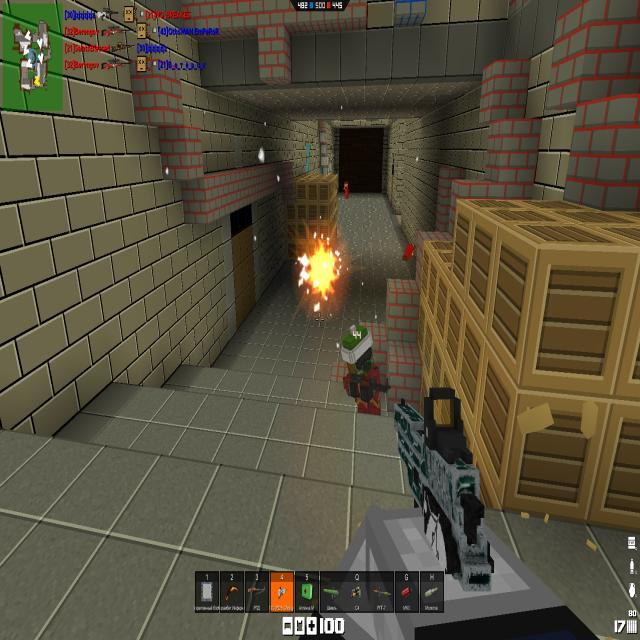player: (342, 326, 391, 410), (403, 243, 415, 261), (344, 180, 348, 198)
